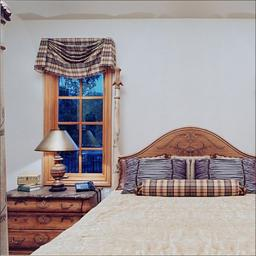Cama: (30, 143, 252, 254)
